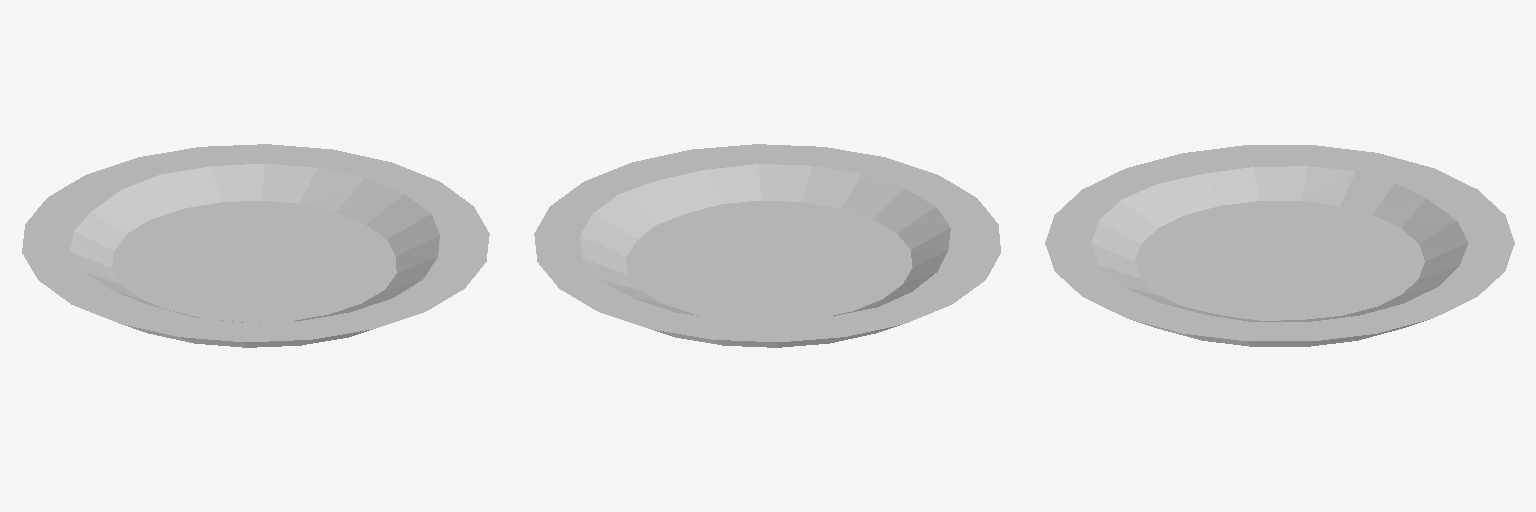
Rendered from Table_Plate.obj.
3 views of the same model, side by side, from view 1: azimuth 30°, elevation 25°; view 2: azimuth 150°, elevation 25°; view 3: azimuth 270°, elevation 25° (orthographic).
Visible parts, largest first — view 1: Table_Plate_Cylinder.084; view 2: Table_Plate_Cylinder.084; view 3: Table_Plate_Cylinder.084.
Part boxes in pixels (x1,y1,x2,y2): Table_Plate_Cylinder.084: (22, 144, 489, 347); Table_Plate_Cylinder.084: (534, 144, 1000, 347); Table_Plate_Cylinder.084: (1045, 145, 1514, 346).
Bounding box in the file's own units: 0.3333 × 0.0202 × 0.3369.